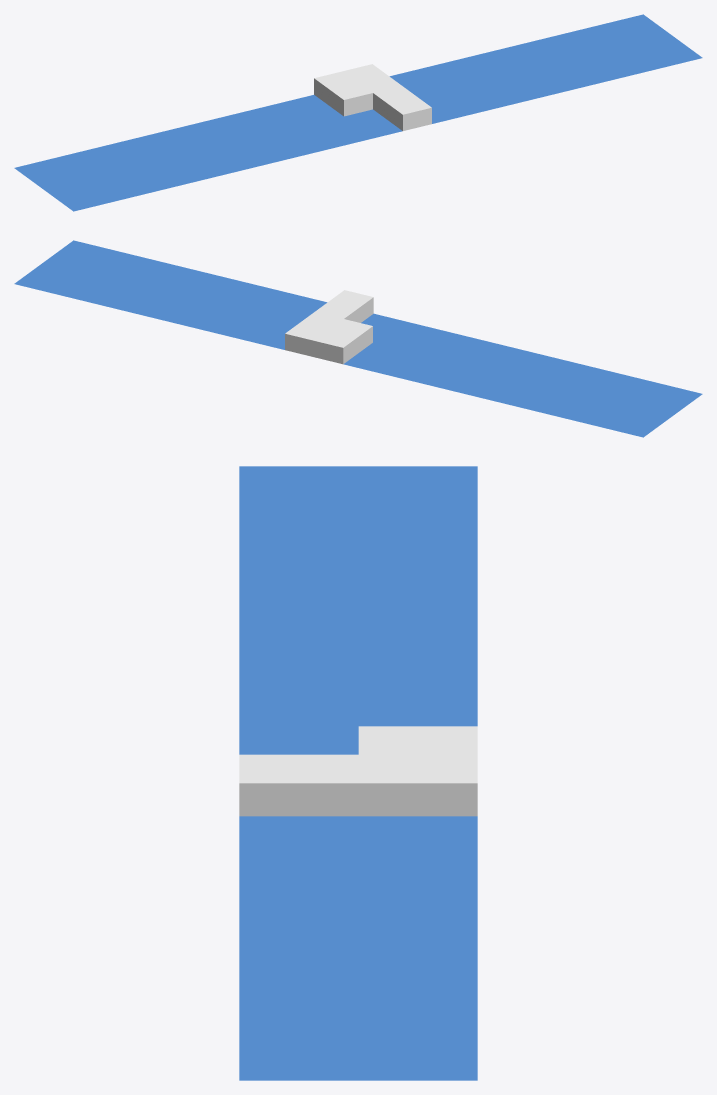
The model's file is RoadHolesLeftTurnBack.fbx.
The picture shows the model from 3 angles, top to bottom: view 1: azimuth 30°, elevation 25°; view 2: azimuth 150°, elevation 25°; view 3: azimuth 270°, elevation 25°; orthographic projection. The views are drawn at different scales.
Visible parts, largest first — view 1: RoadHolesLeftTurn; view 2: RoadHolesLeftTurn; view 3: RoadHolesLeftTurn.
Boxes of the visible parts, box(x1,y1,x2,y2) form: RoadHolesLeftTurn: box(14, 14, 702, 211); RoadHolesLeftTurn: box(14, 240, 702, 437); RoadHolesLeftTurn: box(239, 466, 477, 1080).
Bounding box in the file's own units: 3902 × 97.53 × 640.
